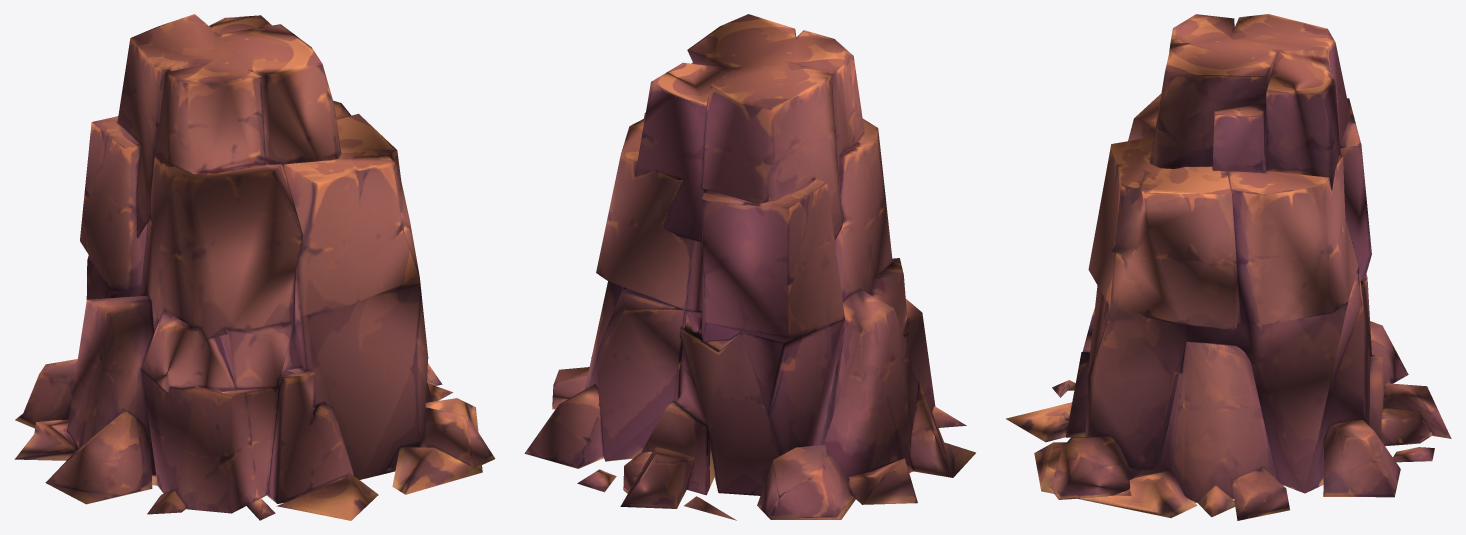
Rendered from Meshy_AI_Sunstone_Crag_0907091629_texture.fbx.
3 views of the same model, side by side, from view 1: azimuth 30°, elevation 25°; view 2: azimuth 150°, elevation 25°; view 3: azimuth 270°, elevation 25° (orthographic). The views are drawn at different scales.
Parts seen in each view (by area): view 1: mesh_node; view 2: mesh_node; view 3: mesh_node.
Part boxes in pixels (bbox=[...]): mesh_node: bbox=[14, 14, 495, 520]; mesh_node: bbox=[524, 14, 975, 520]; mesh_node: bbox=[1006, 14, 1451, 520].
Size of the model in its own units: 324 by 300 by 323.
Materials: 1 (1 with a texture image).
